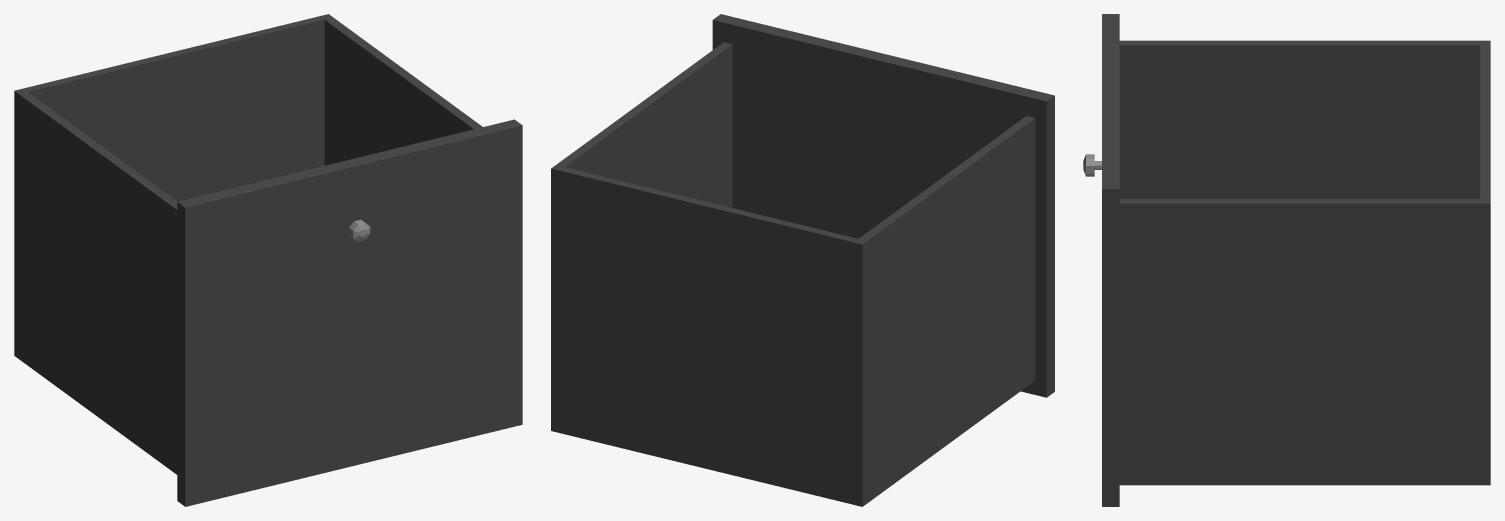
The model's file is Door3_C3_06.fbx.
3 views of the same model, side by side, from view 1: azimuth 30°, elevation 25°; view 2: azimuth 150°, elevation 25°; view 3: azimuth 270°, elevation 25° (orthographic). The views are drawn at different scales.
Visible parts, largest first — view 1: Door3_C3_06; view 2: Door3_C3_06; view 3: Door3_C3_06.
Boxes of the visible parts, left/top/right/bottom form: Door3_C3_06: left=14, top=14, right=522, bottom=506; Door3_C3_06: left=551, top=14, right=1054, bottom=506; Door3_C3_06: left=1083, top=14, right=1490, bottom=506.
Bounding box in the file's own units: 59 × 50 × 58.03.
